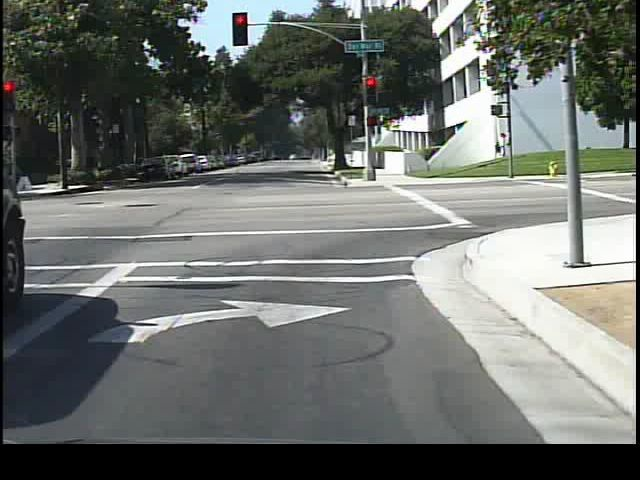person: (486, 128, 510, 174)
